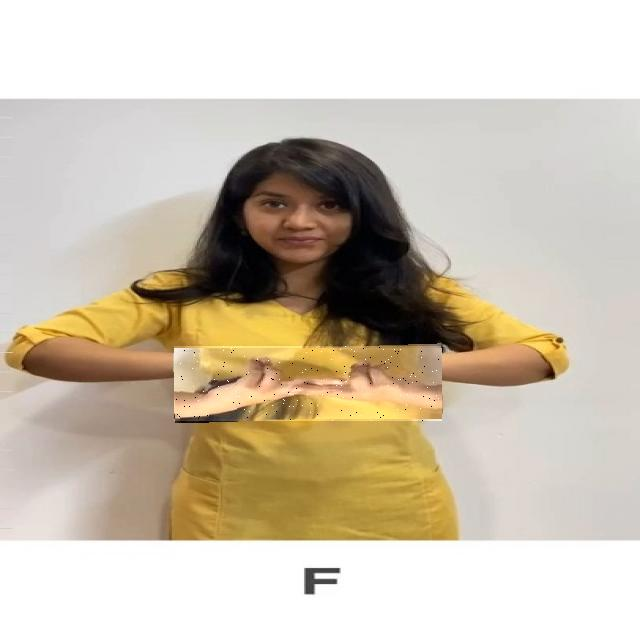F: (174, 346, 442, 421)
